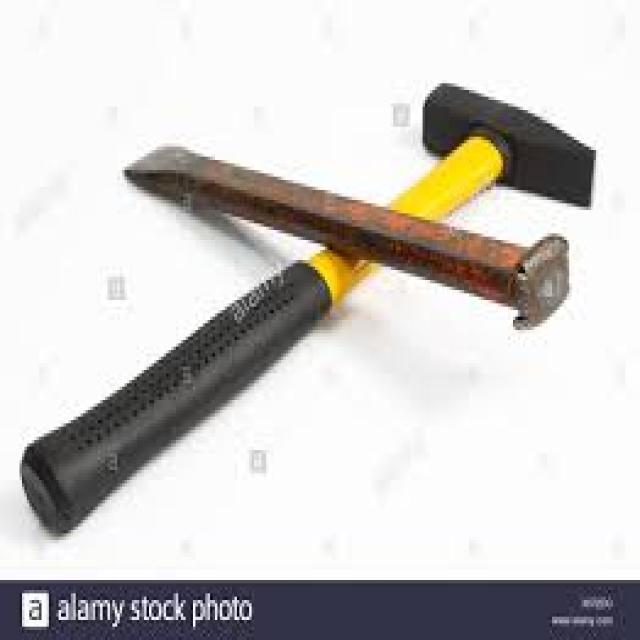Palu: (18, 76, 594, 540)
